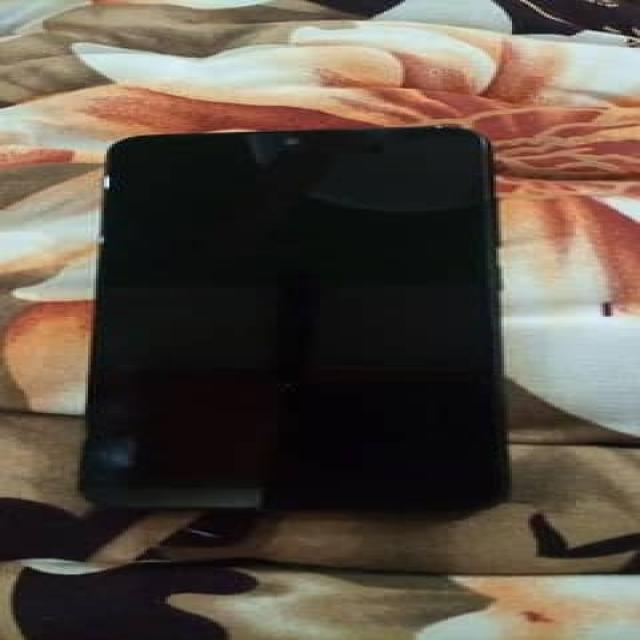mobile phone: (75, 122, 512, 512)
